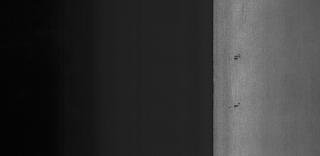oil spot: (228, 99, 245, 111), (228, 53, 245, 64)
